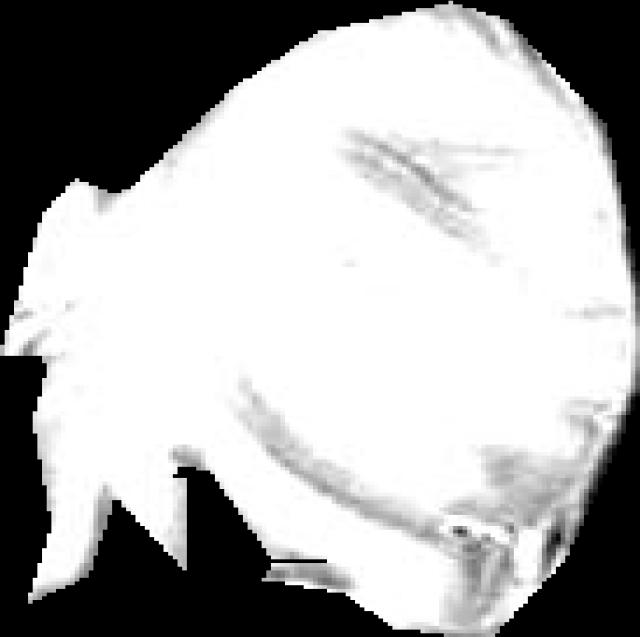tumor_less_chance: (0, 1, 640, 637)
